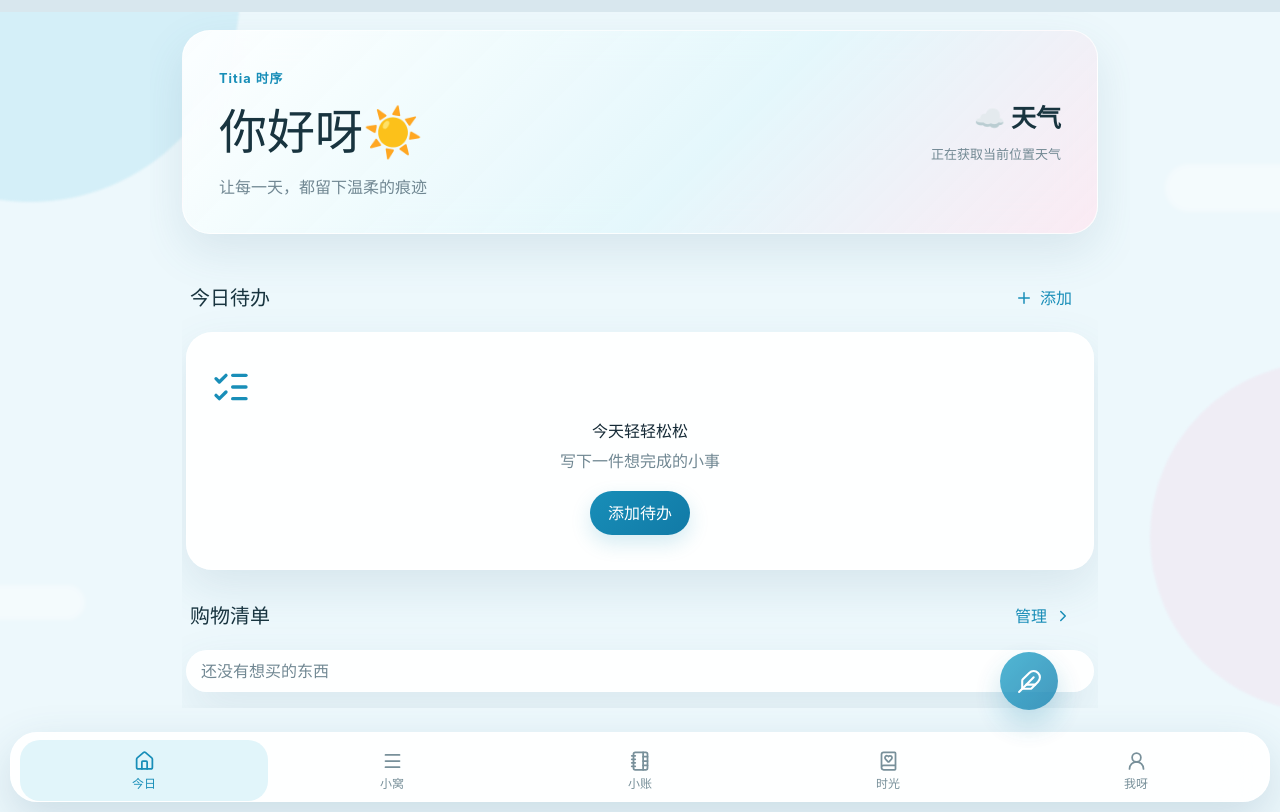
Test: TitiaApp › separates expense and income category views
This screenshot has width=1280, height=812.
Click the button "小账" at (640, 770), box top-left (516, 740), bottom-right (764, 801)
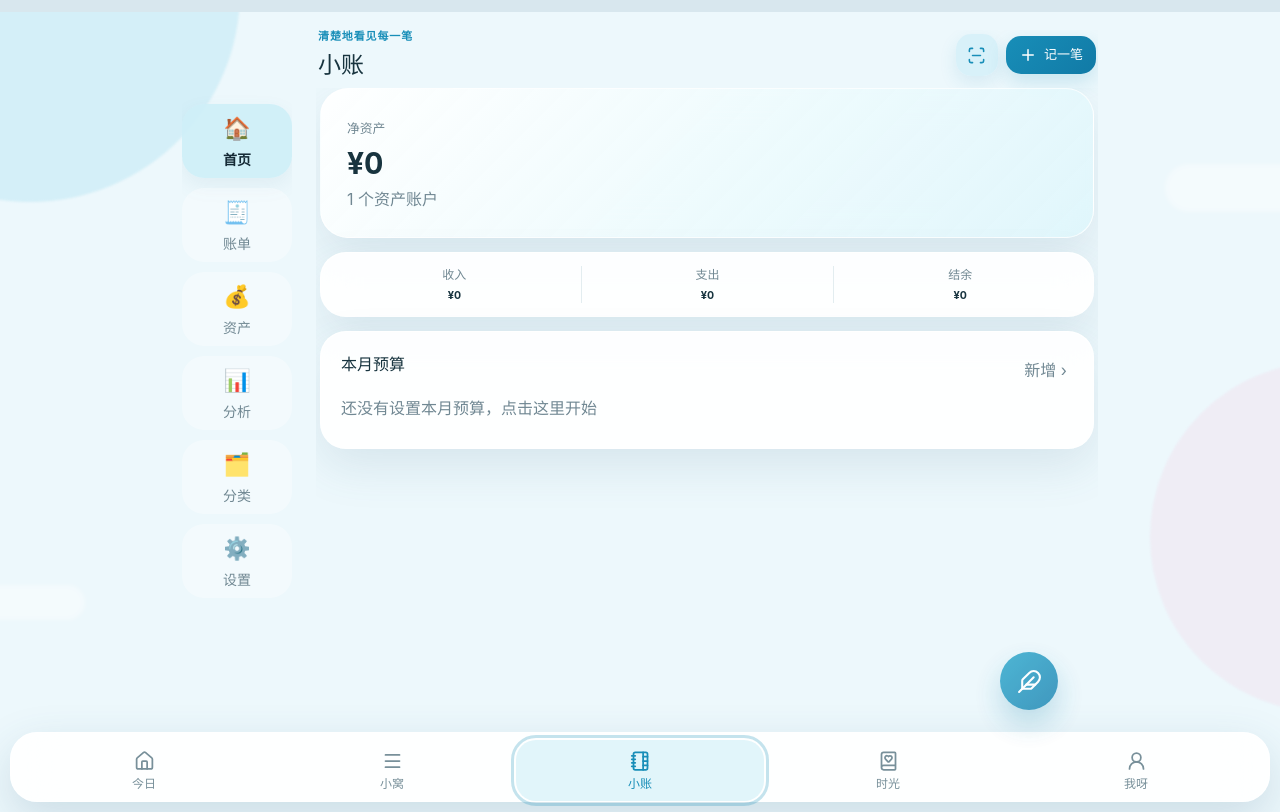
Click the button "🗂️ 分类" at (237, 477), box top-left (182, 440), bottom-right (292, 514)
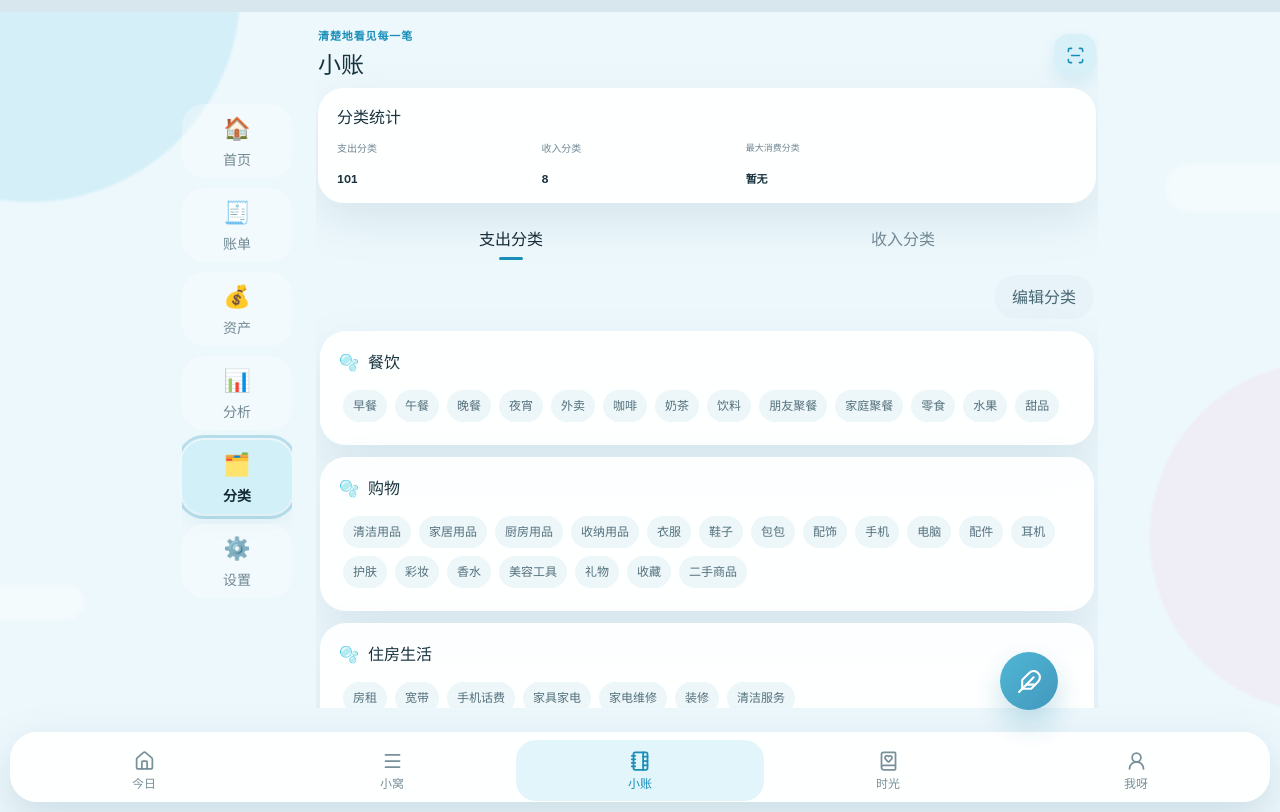
Check: the button "支出分类" is shown, box top-left (320, 217), bottom-right (702, 261)
Check: the button "收入分类" is shown, box top-left (712, 217), bottom-right (1094, 261)
